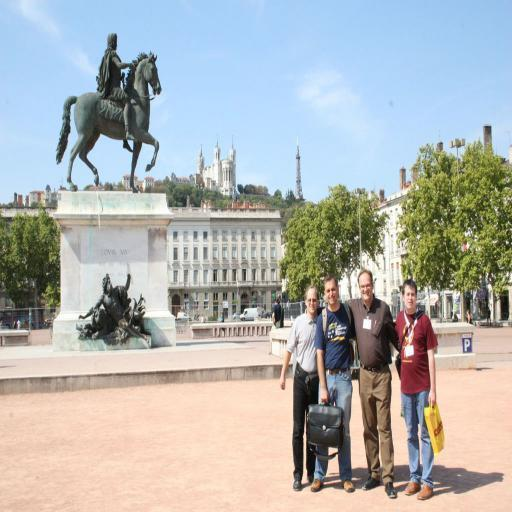horse: (56, 52, 162, 192)
